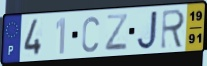1: (55, 16, 67, 56)
4: (23, 18, 43, 58)
C: (81, 15, 101, 54)
J: (136, 10, 159, 52)
R: (159, 8, 187, 51)
Z: (104, 12, 129, 52)
